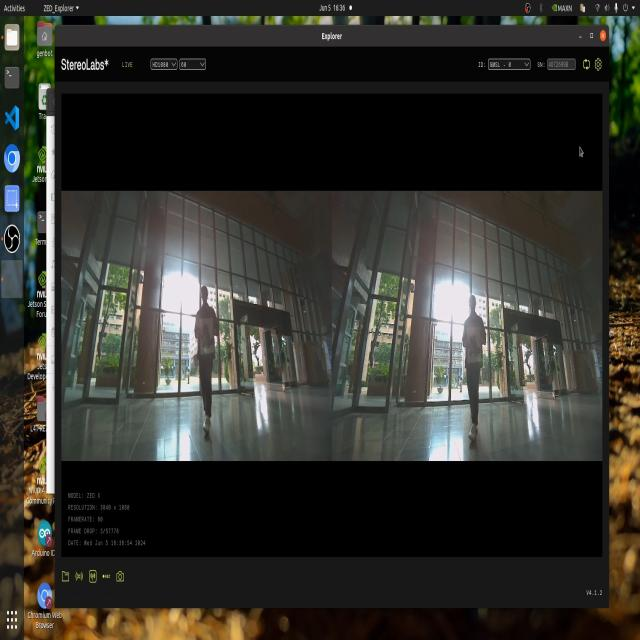blue: (462, 327, 485, 363), (199, 315, 220, 352)
